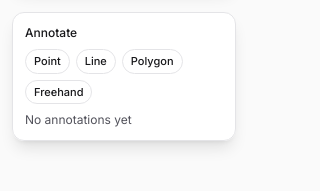
it: <LayerViewer> annotation tool › clicking a mode button switches terra-draw's active mode and marks the button pressed
The image size is (320, 191).
Click the button "Point": (47, 61) top-left (25, 49), bottom-right (70, 74)
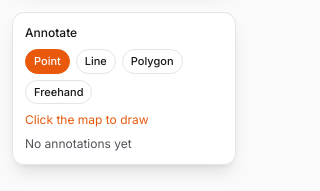
Check: the text "Click the map to draw" is shown, box top-left (25, 112), bottom-right (149, 127)
